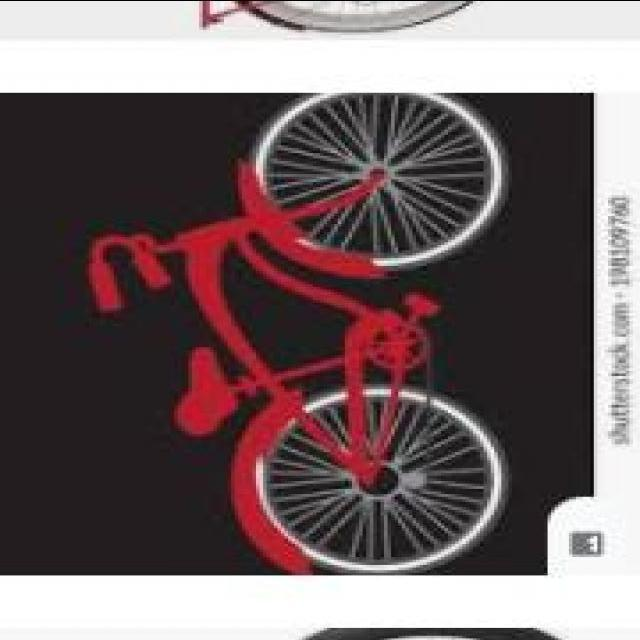bicycle: (69, 90, 553, 568)
